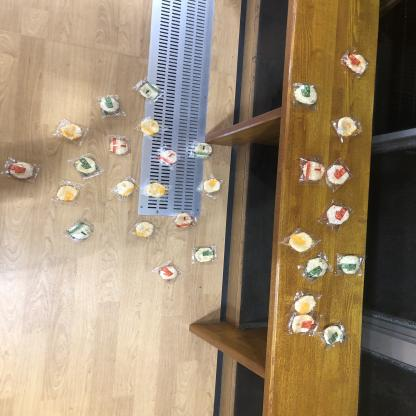green_setoshio: (291, 82, 321, 111), (95, 92, 126, 119), (320, 320, 348, 348), (71, 151, 101, 177), (64, 219, 95, 244), (130, 79, 165, 101), (301, 255, 331, 280), (336, 253, 366, 277), (190, 245, 220, 266), (188, 139, 216, 161)
red_setoshio: (0, 156, 43, 184), (318, 201, 353, 231), (294, 154, 327, 185), (152, 258, 184, 286), (286, 313, 321, 338), (340, 51, 372, 78), (326, 159, 353, 190), (169, 206, 199, 232), (155, 146, 182, 169), (107, 136, 134, 158)
yellow_setoshio: (280, 227, 320, 256), (331, 112, 363, 140), (54, 119, 88, 144), (127, 216, 157, 242), (291, 292, 321, 314), (198, 173, 225, 197), (142, 179, 171, 201), (54, 181, 80, 205), (136, 116, 167, 136), (113, 178, 140, 199)
